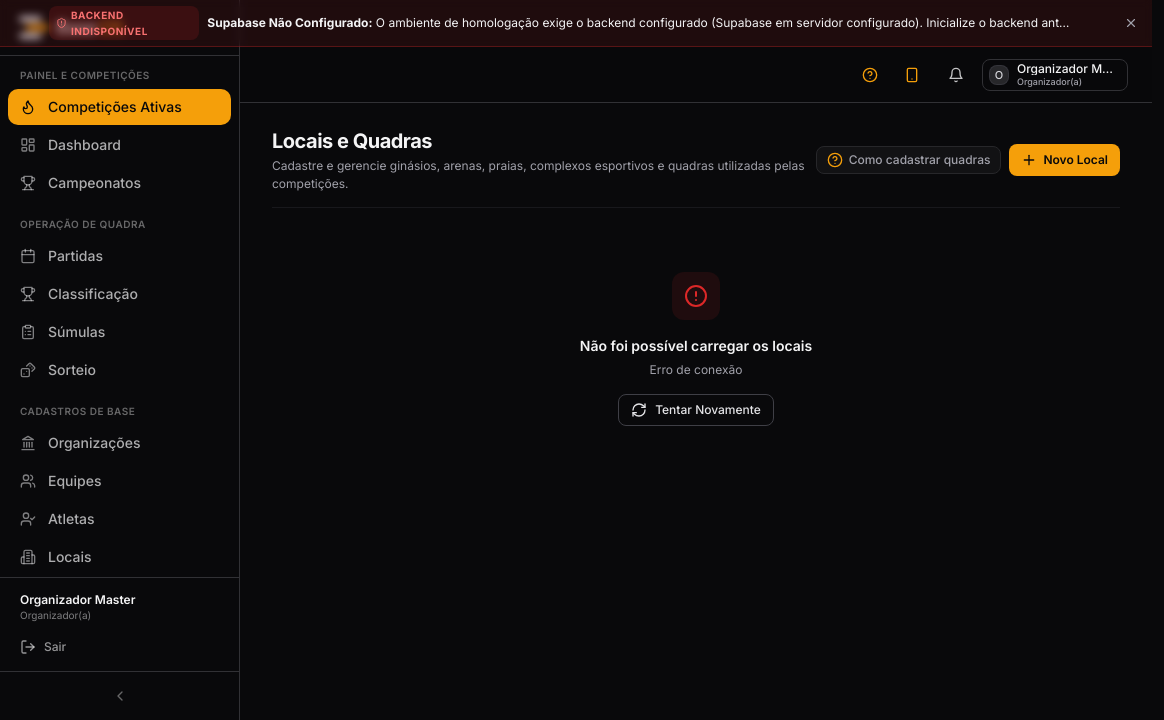
Test: VenuesPage / LocationsPage Component (Fase 8.1) › exibe estado de erro com retry quando o carregamento falha
The width and height of the screenshot is (1164, 720).
Check: the message "Não foi possível carregar os locais Erro de conexão Tentar Novamente" is shown, box [580,272,812,426]
Check: the text "Não foi possível carregar os locais" is shown, box [580,336,812,356]
Click the button "Tentar Novamente" at (696, 410), box [618,394,774,426]
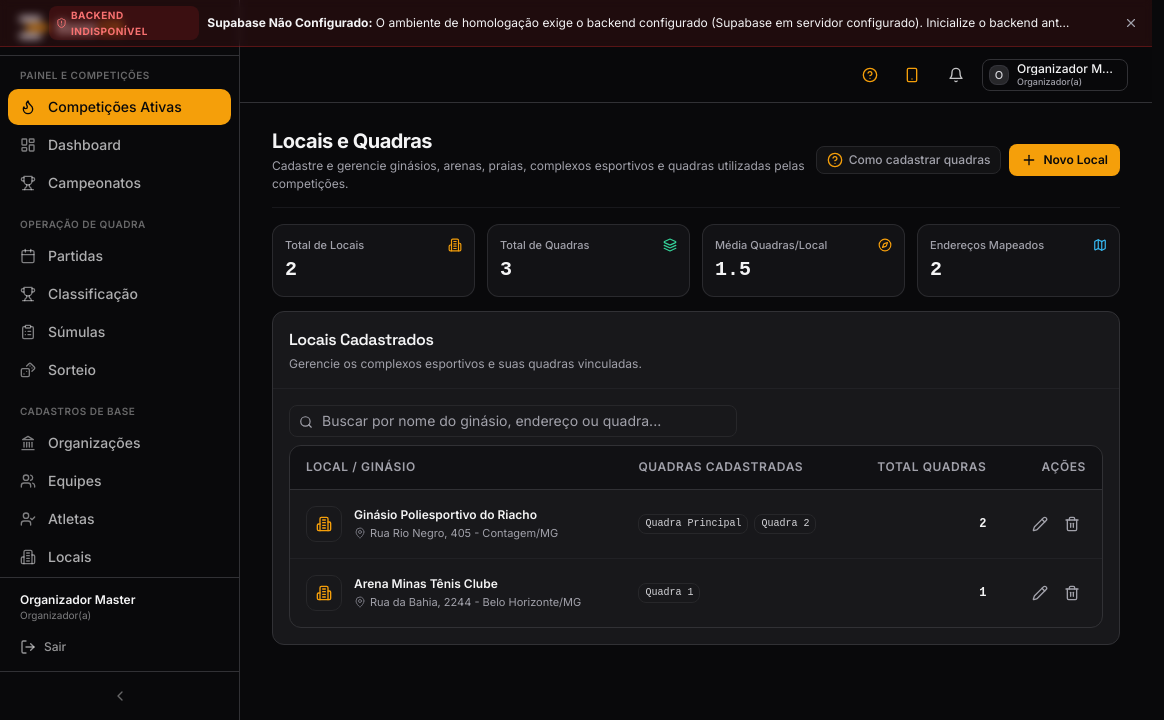
Check: the text "Ginásio Poliesportivo do Riacho" is shown, box [354,507,558,523]
